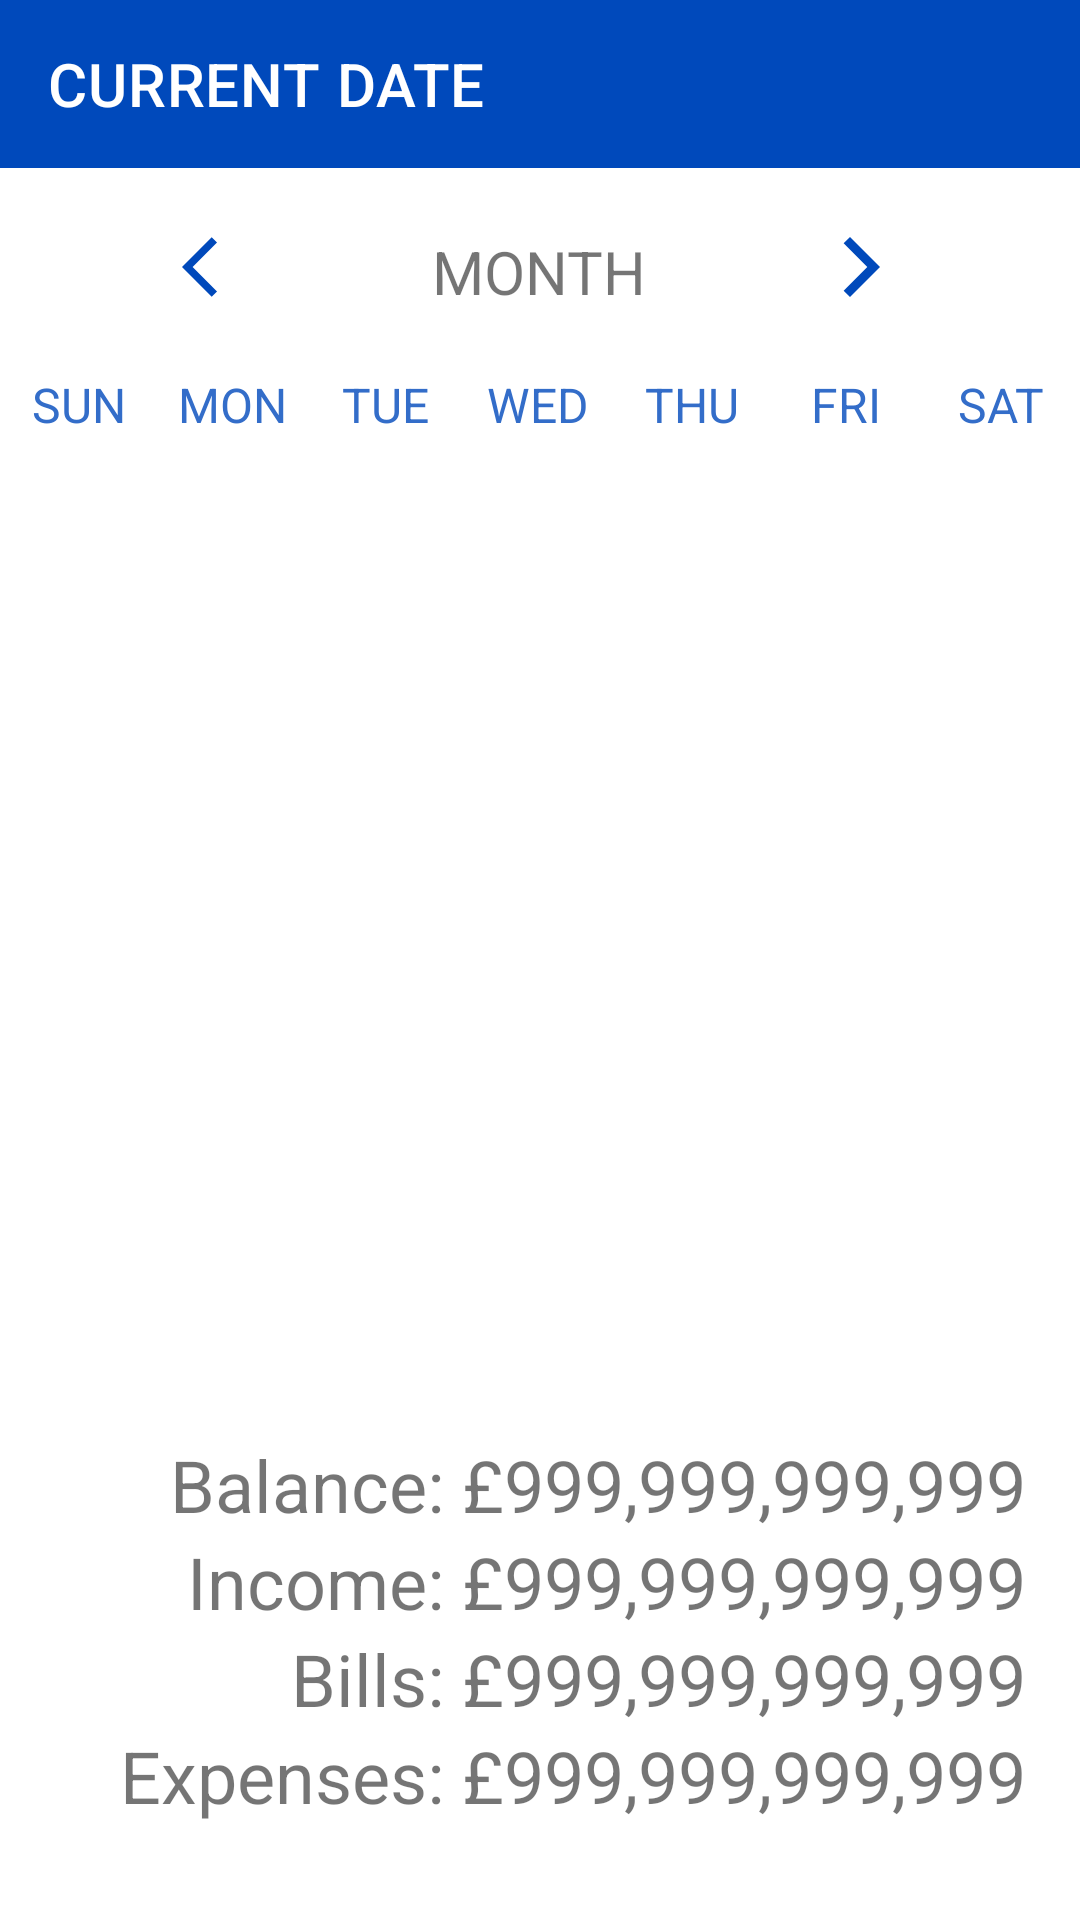

Named icons in this screenshot (1080 × 1920) and their centers, [x,y]:
arrow back: [199,267]
arrow forward: [861,267]
